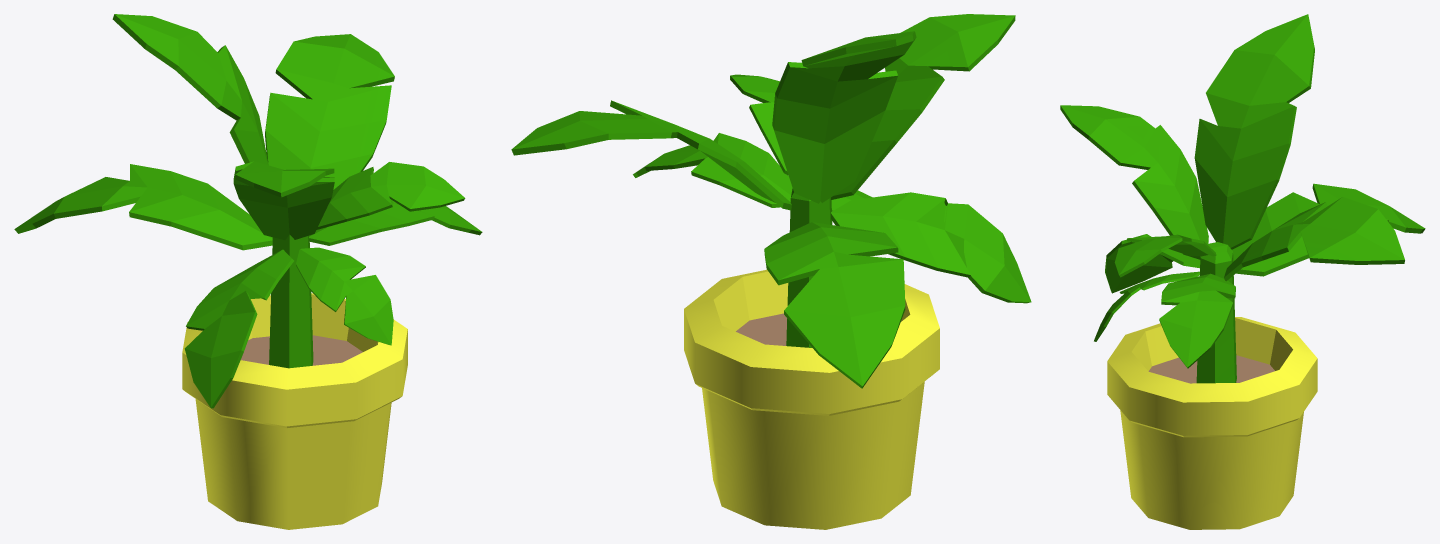
File: SM_Room_Plant.fbx
3 views of the same model, side by side, from view 1: azimuth 30°, elevation 25°; view 2: azimuth 150°, elevation 25°; view 3: azimuth 270°, elevation 25° (orthographic). The views are drawn at different scales.
Visible parts, largest first — view 1: SM_Room_Plant; view 2: SM_Room_Plant; view 3: SM_Room_Plant.
Part boxes in pixels (x1,y1,x2,y2): SM_Room_Plant: (14, 14, 482, 529); SM_Room_Plant: (511, 14, 1031, 529); SM_Room_Plant: (1060, 14, 1425, 529).
Bounding box in the file's own units: 156 × 205 × 159.
1 material, 1 textured.
